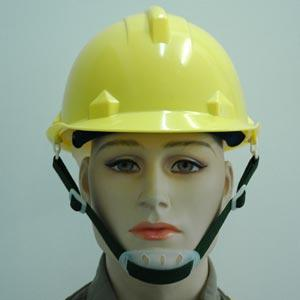helmet: (48, 6, 260, 155)
